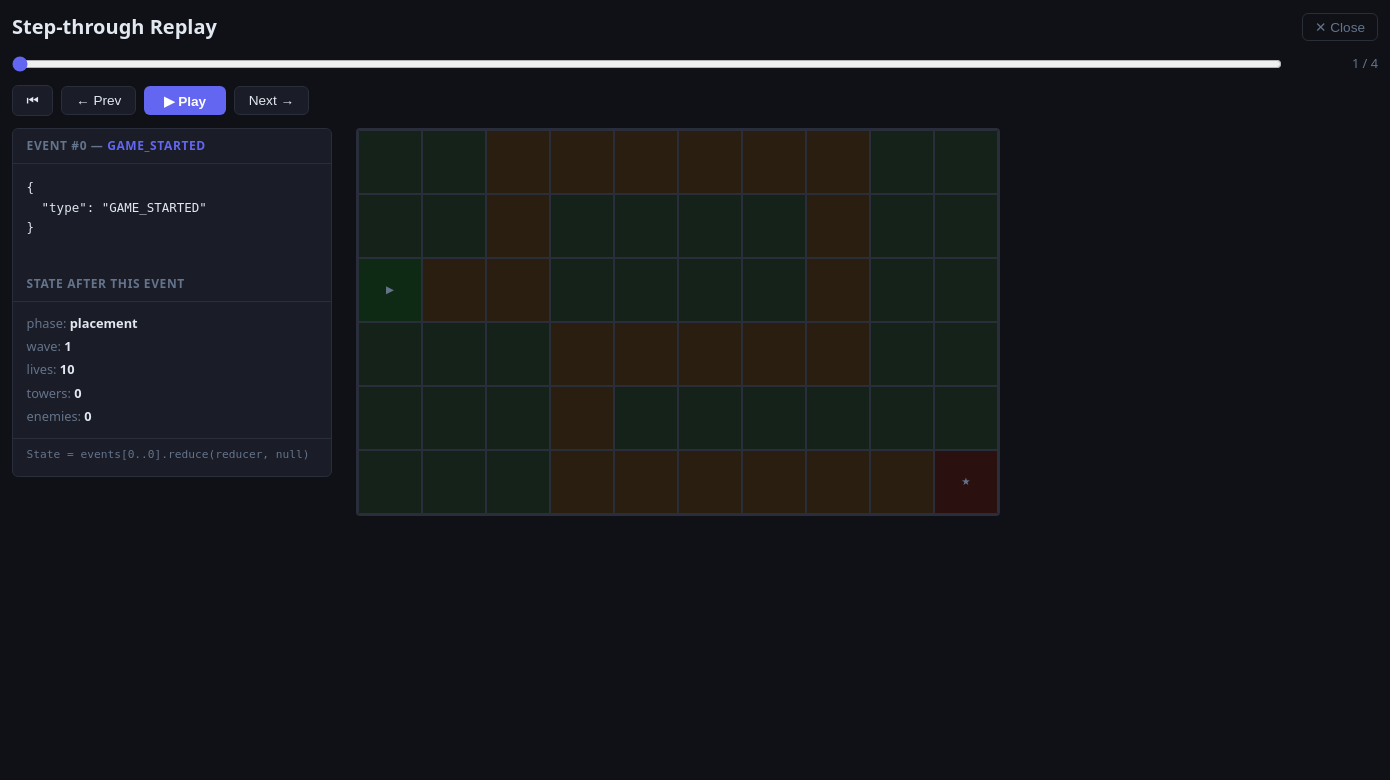
Test case: ReplayViewer › advances to the next event when Next is clicked
The image size is (1390, 780).
Click the button "Next →" at (271, 101), box [234,86,309,116]
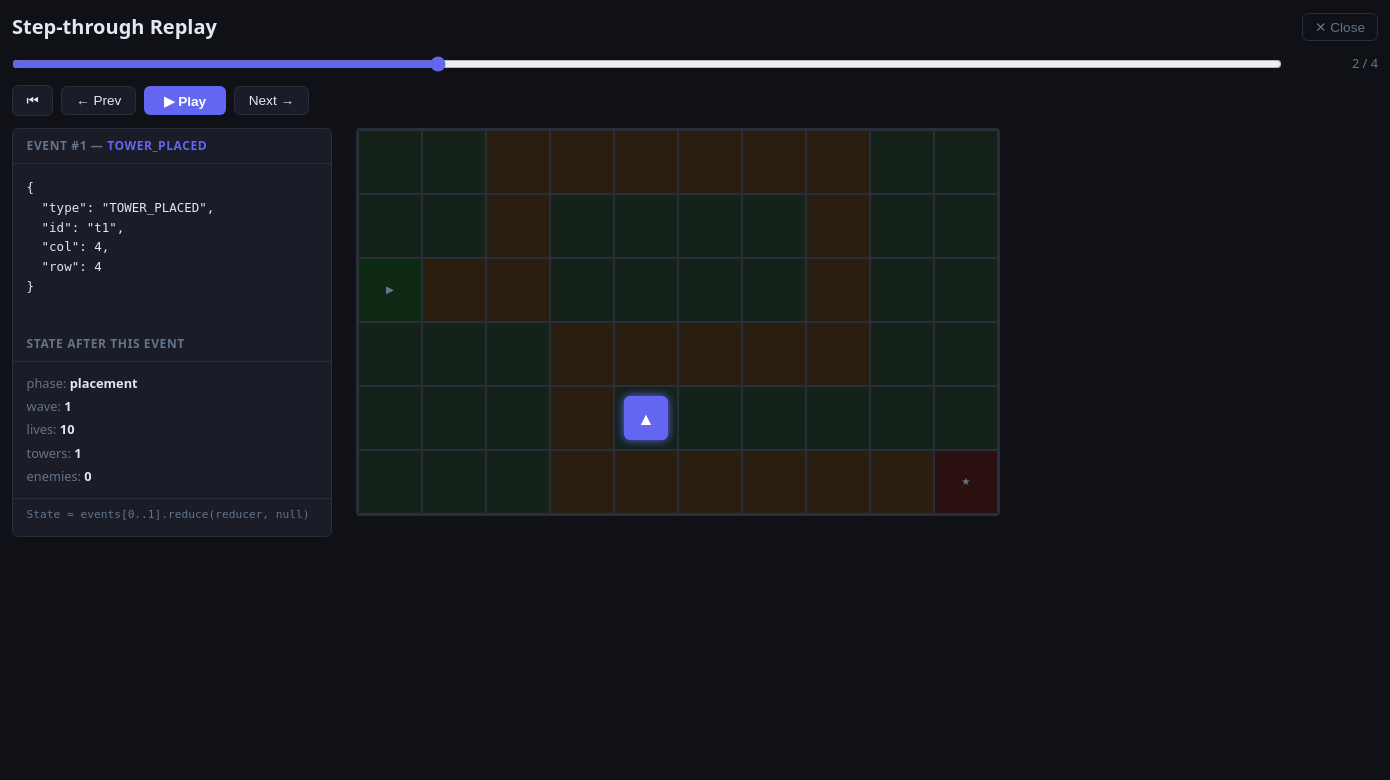
Now the text "Event #1 — TOWER_PLACED" is shown, box [13,129,331,164]
Now the text "TOWER_PLACED" is shown, box [107,137,207,154]
